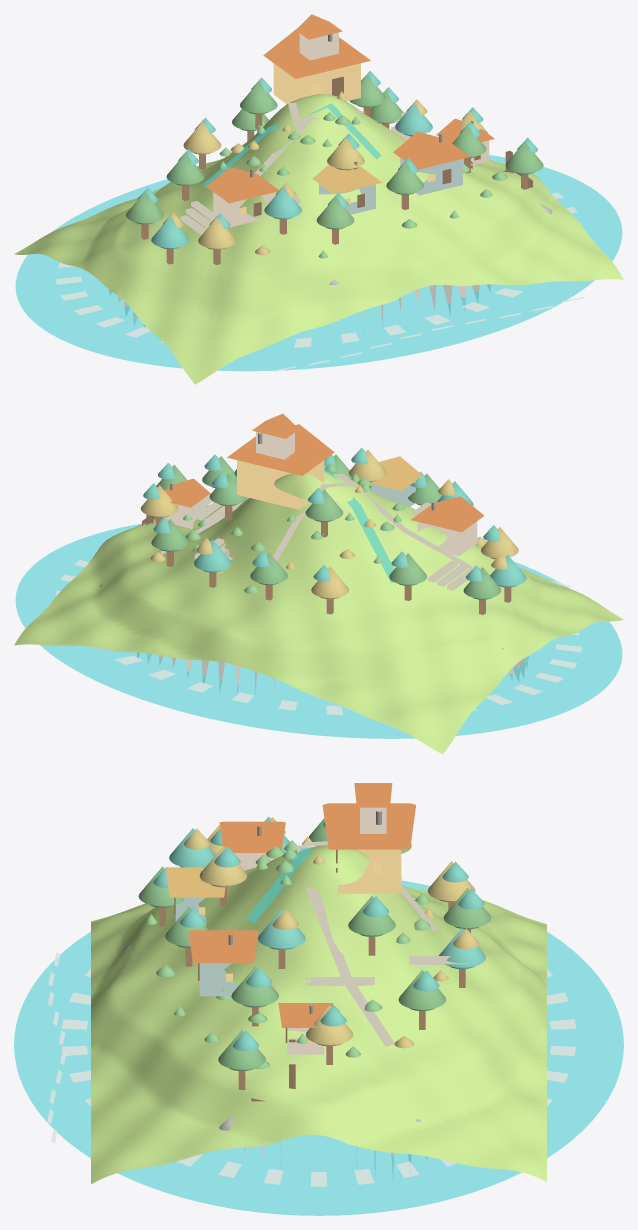
The model's file is high_fidelity_island.gltf.
The picture shows the model from 3 angles, top to bottom: view 1: azimuth 30°, elevation 25°; view 2: azimuth 150°, elevation 25°; view 3: azimuth 270°, elevation 25°; orthographic projection. The views are drawn at different scales.
Parts seen in each view (by area): view 1: rounded pastel island grass top, soft turquoise water surrounding island, rounded tree canopy upper (×15), CLICKABLE_PORTAL_main_hill_house orange gable roof, CLICKABLE_PORTAL_main_hill_house body, front waterside cottage orange gable roof, left tiny cottage orange gable roof, lower path cottage orange gable roof, front waterside cottage body, narrow blue stream across island, CLICKABLE_PORTAL_main_hill_house upper tower, left tiny cottage body (+2 smaller); view 2: rounded pastel island grass top, soft turquoise water surrounding island, rounded tree canopy upper (×13), CLICKABLE_PORTAL_main_hill_house orange gable roof, CLICKABLE_PORTAL_main_hill_house body, left tiny cottage orange gable roof, lower path cottage orange gable roof, left tiny cottage body, wide curved village walking path, narrow blue stream across island, right dock hut orange gable roof, CLICKABLE_PORTAL_main_hill_house upper tower (+3 smaller); view 3: rounded pastel island grass top, soft turquoise water surrounding island, rounded tree canopy upper (×13), CLICKABLE_PORTAL_main_hill_house orange gable roof, front waterside cottage orange gable roof, CLICKABLE_PORTAL_main_hill_house body, left tiny cottage orange gable roof, wide curved village walking path, lower path cottage orange gable roof, front waterside cottage body, right dock hut orange gable roof, CLICKABLE_PORTAL_main_hill_house upper tower roof (+2 smaller).
Part boxes in pixels (x1,y1,x2,y2): rounded pastel island grass top: (14,94,623,384); soft turquoise water surrounding island: (15,155,622,371); rounded tree canopy upper (×15): (126,75,543,248); CLICKABLE_PORTAL_main_hill_house orange gable roof: (263,28,370,78); CLICKABLE_PORTAL_main_hill_house body: (273,63,360,104); front waterside cottage orange gable roof: (393,131,469,169); left tiny cottage orange gable roof: (206,167,278,203); lower path cottage orange gable roof: (312,165,382,194); front waterside cottage body: (400,158,462,195); narrow blue stream across island: (203,103,380,188); CLICKABLE_PORTAL_main_hill_house upper tower: (299,32,338,60); left tiny cottage body: (213,192,272,226); rounded pastel island grass top: (14,471,623,754); soft turquoise water surrounding island: (15,523,622,738); rounded tree canopy upper (×13): (140,449,526,598); CLICKABLE_PORTAL_main_hill_house orange gable roof: (227,424,334,475); CLICKABLE_PORTAL_main_hill_house body: (237,460,324,509); left tiny cottage orange gable roof: (411,496,484,532); lower path cottage orange gable roof: (371,456,422,490); left tiny cottage body: (417,521,477,556); wide curved village walking path: (160,474,472,569); narrow blue stream across island: (324,465,394,582); right dock hut orange gable roof: (164,478,210,507); CLICKABLE_PORTAL_main_hill_house upper tower: (256,431,294,459); rounded pastel island grass top: (91,845,546,1184); soft turquoise water surrounding island: (14,880,623,1215); rounded tree canopy upper (×13): (138,828,491,1069); CLICKABLE_PORTAL_main_hill_house orange gable roof: (322,803,415,849); front waterside cottage orange gable roof: (188,930,258,963); CLICKABLE_PORTAL_main_hill_house body: (337,849,401,893); left tiny cottage orange gable roof: (219,821,285,852); wide curved village walking path: (296,845,394,1046); lower path cottage orange gable roof: (166,867,225,897); front waterside cottage body: (199,963,238,996); right dock hut orange gable roof: (278,1003,332,1027); CLICKABLE_PORTAL_main_hill_house upper tower roof: (354,783,392,807).
Size of the model in its own units: 6.1 by 2.54 by 4.6.
